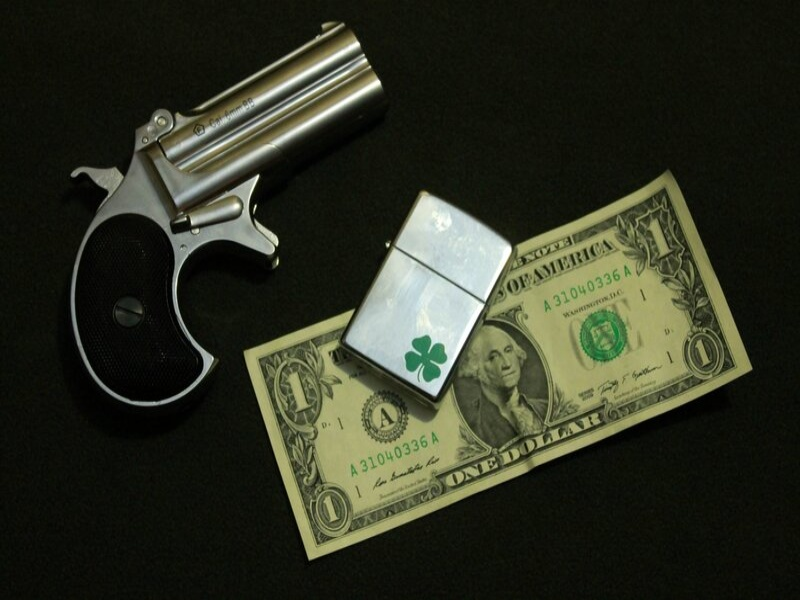cash: (243, 170, 753, 561)
weapon: (71, 20, 384, 406)
